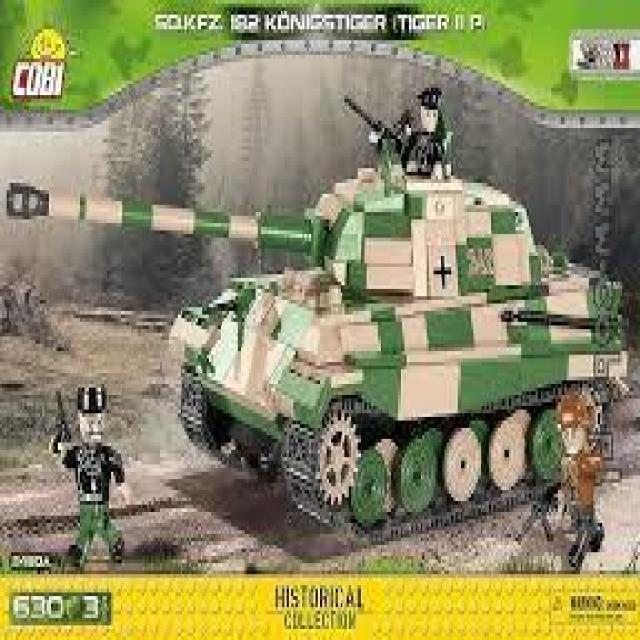Tanks: (171, 159, 627, 543)
